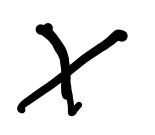mult: (17, 23, 124, 112)
